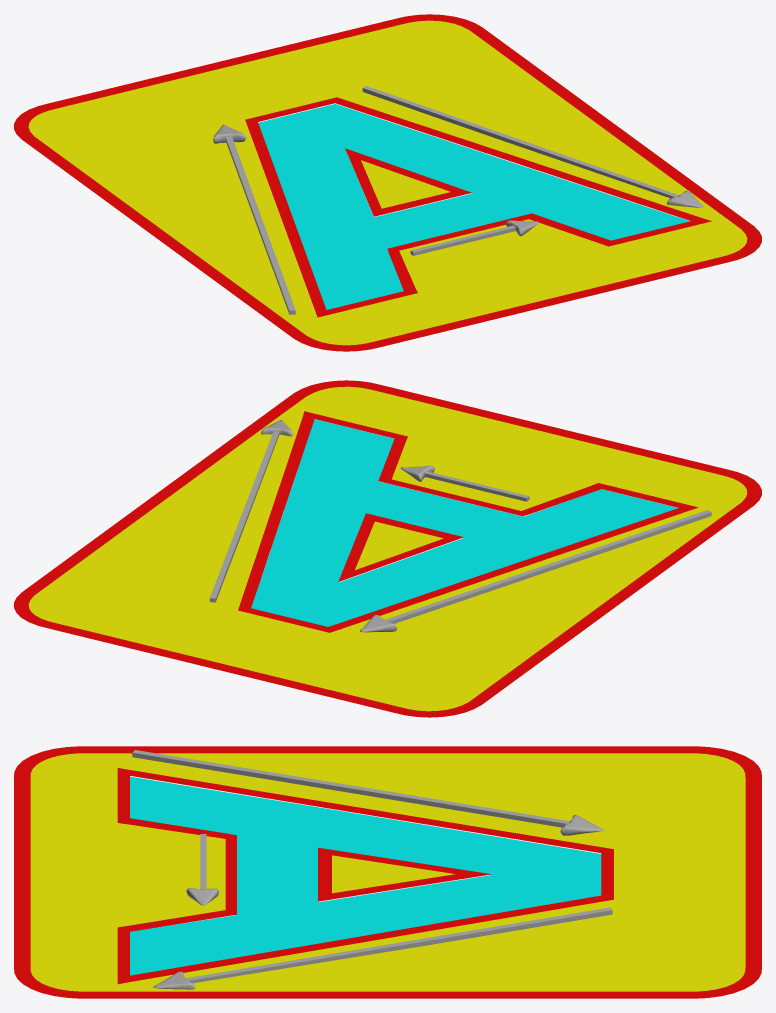
File: PanelLetterA2.fbx
3 renders of one model, top to bottom at view 1: azimuth 30°, elevation 25°; view 2: azimuth 150°, elevation 25°; view 3: azimuth 270°, elevation 25°, orthographic. The views are drawn at different scales.
Visible parts, largest first — view 1: PanelA, Arrow2, part32, Arrow1, part1, part35, part34, part29, part28, part27, Arrow3, part30 (+26 smaller); view 2: PanelA, Arrow1, part32, part1, Arrow2, part35, part34, part29, part33, part36, Arrow3, part30 (+26 smaller); view 3: PanelA, Arrow1, Arrow2, part32, part1, part35, part34, part36, part33, part29, part30, part27 (+26 smaller).
Boxes of the visible parts, x1,y1,x2,y2 form: PanelA: [14, 14, 761, 351]; Arrow2: [362, 86, 703, 207]; part32: [572, 208, 689, 240]; Arrow1: [213, 124, 295, 314]; part1: [318, 270, 403, 309]; part35: [423, 197, 490, 231]; part34: [391, 205, 457, 238]; part29: [527, 194, 627, 219]; part28: [507, 186, 605, 212]; part27: [486, 179, 584, 205]; Arrow3: [410, 220, 539, 255]; part30: [551, 201, 648, 226]; PanelA: [14, 380, 761, 717]; Arrow1: [360, 510, 711, 632]; part32: [307, 419, 394, 460]; part1: [560, 489, 677, 522]; Arrow2: [209, 420, 292, 602]; part35: [383, 491, 451, 525]; part34: [416, 499, 483, 533]; part29: [299, 453, 381, 483]; part33: [449, 507, 522, 537]; part36: [366, 481, 418, 517]; Arrow3: [401, 465, 529, 501]; part30: [303, 442, 385, 472]; PanelA: [14, 746, 761, 998]; Arrow1: [132, 750, 603, 835]; Arrow2: [153, 907, 612, 989]; part32: [130, 923, 185, 975]; part1: [130, 776, 185, 826]; part35: [237, 875, 317, 893]; part34: [237, 857, 317, 875]; part36: [236, 893, 317, 915]; part33: [237, 836, 317, 857]; part29: [213, 914, 242, 961]; part30: [185, 918, 213, 966]; part27: [270, 905, 299, 951].
Bounding box in the file's own units: 13.07 × 0.3111 × 16.36.
